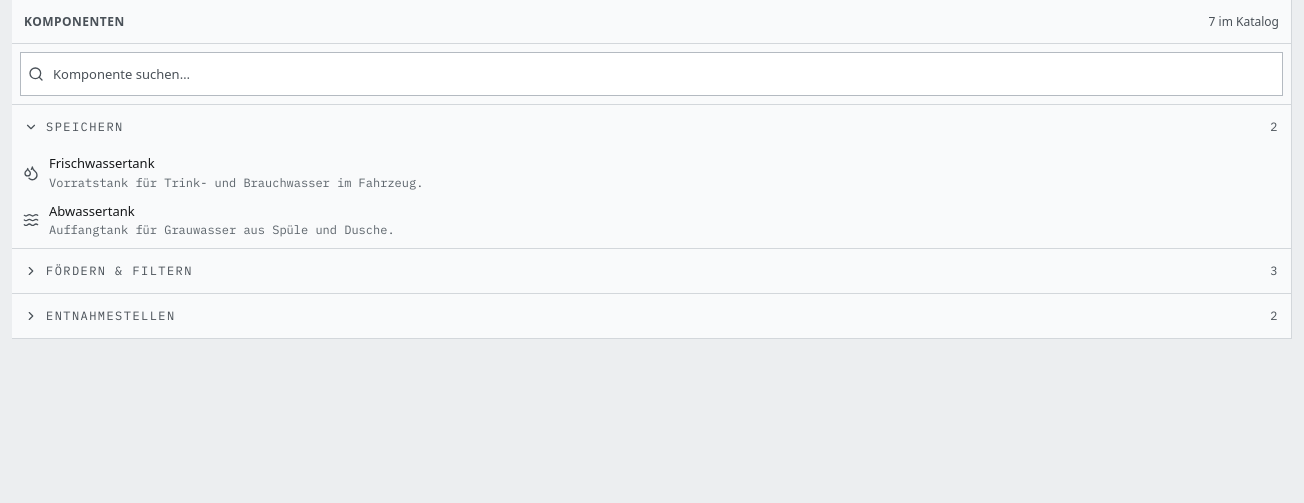
Test: Sidebar Component › Rendering › renders water components when mode is water
Expected: the text "Frischwassertank" is shown, [49,154,155,172]
Step 1. Click the button "Fördern & filtern 3" → (119,270), box [12,249,1291,293]
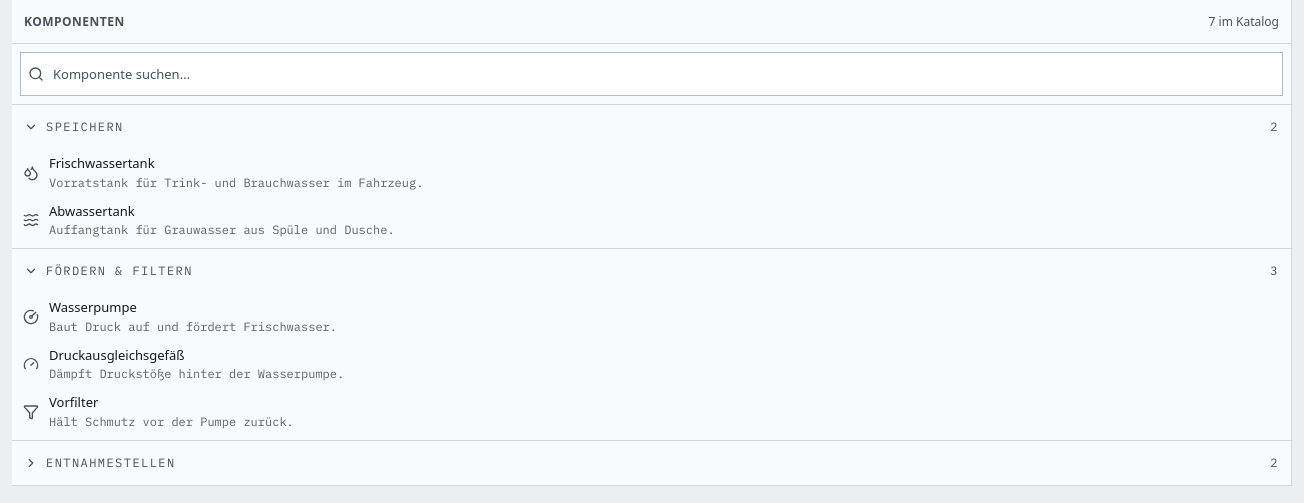
Expected: the text "Wasserpumpe" is shown, [49,298,137,316]
